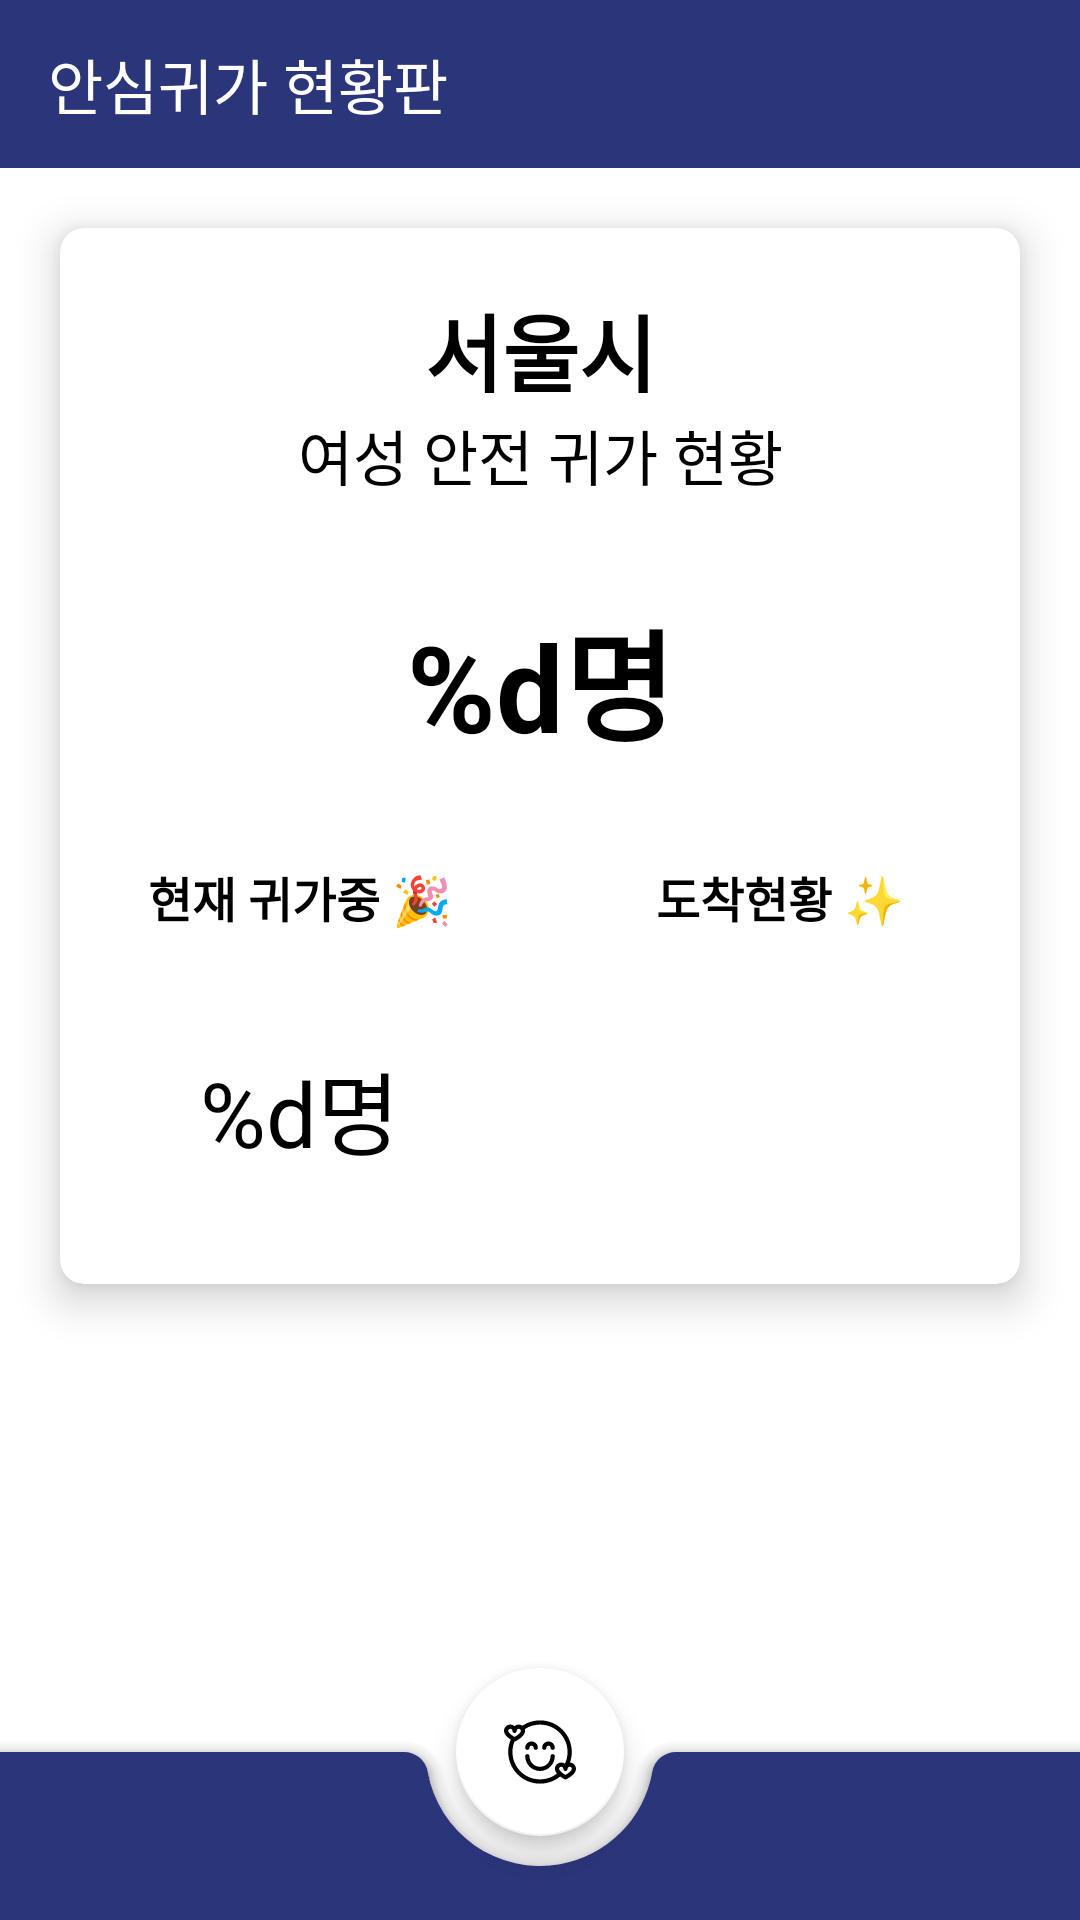

Where icons sit on this 1080 x 1920 app screen, as box(x1, y1, x2, y2):
happy face: box(504, 1720, 624, 1784)
